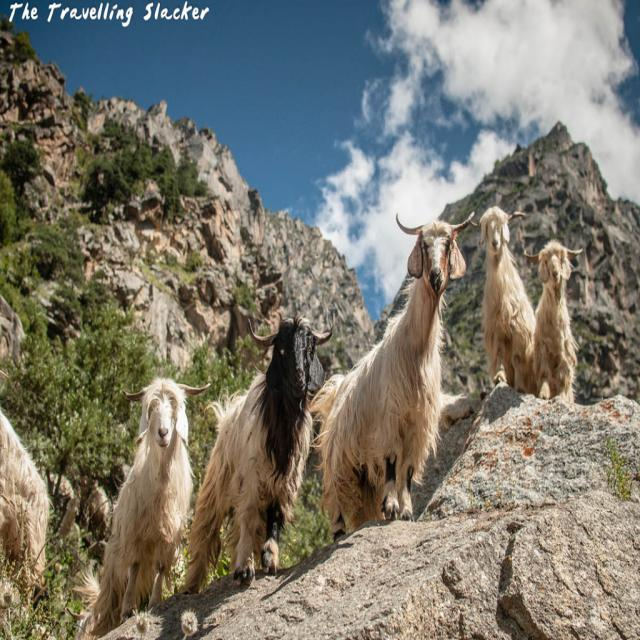Goat: (0, 205, 583, 640)
